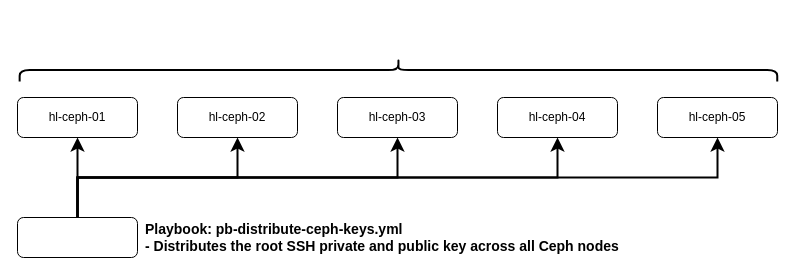
The diagram is 796 pixels wide and 275 high, and some of its shapes have lost their labels. The shapes that lost their labels are listed below. From the top down, each one's centre as x and y in pixels, then its label:
point 398,69: Ansible inventory group "hl_ceph"
point 77,237: Ansible Workstation
